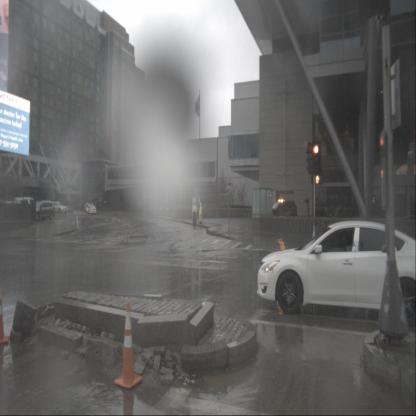human-pedestrian-adult: (192, 202, 197, 225), (199, 202, 203, 224)
movable_object-trafficcone: (114, 302, 143, 389), (0, 277, 9, 344)
vehicle-car: (256, 220, 415, 317), (3, 197, 35, 219), (32, 200, 55, 220), (45, 201, 68, 215), (88, 205, 96, 214), (85, 203, 91, 212)
